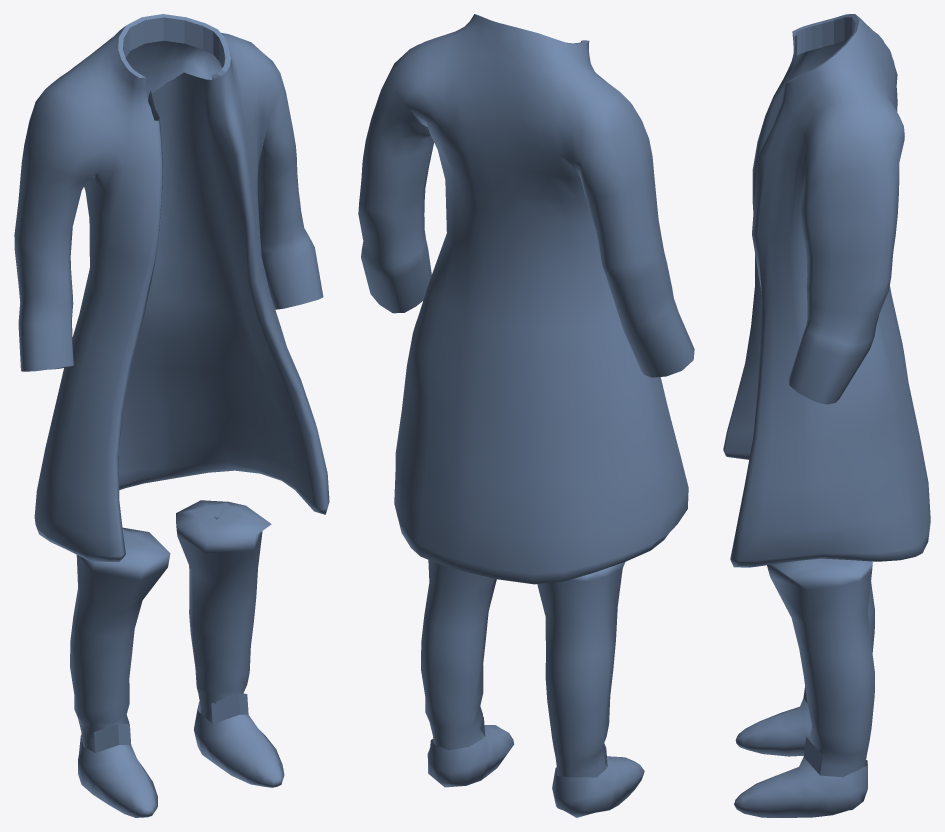
Rendered from veste chaussures.fbx.
The picture shows the model from 3 angles, left to right: view 1: azimuth 30°, elevation 25°; view 2: azimuth 150°, elevation 25°; view 3: azimuth 270°, elevation 25°; orthographic projection. The views are drawn at different scales.
Visible parts, largest first — view 1: polySurface398; view 2: polySurface398; view 3: polySurface398.
Part boxes in pixels (x1,y1,x2,y2): polySurface398: (14, 14, 329, 817); polySurface398: (358, 14, 694, 817); polySurface398: (723, 14, 930, 817).
Bounding box in the file's own units: 0.6974 × 0.4111 × 1.65.
